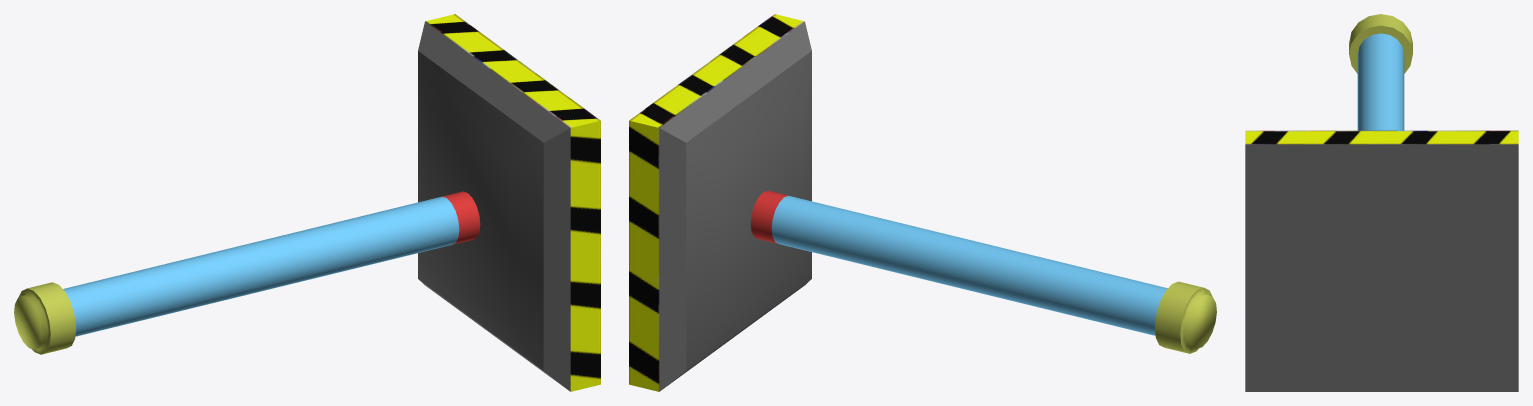
The model's file is push.glb.
3 views of the same model, side by side, from view 1: azimuth 30°, elevation 25°; view 2: azimuth 150°, elevation 25°; view 3: azimuth 270°, elevation 25° (orthographic). The views are drawn at different scales.
Parts seen in each view (by area): view 1: push; view 2: push; view 3: push.
Part boxes in pixels (bbox=[...]): push: bbox=[14, 14, 600, 391]; push: bbox=[629, 14, 1216, 391]; push: bbox=[1245, 14, 1518, 391].
Size of the model in its own units: 2.8 by 1.41 by 1.41.
1 material, 1 textured.
